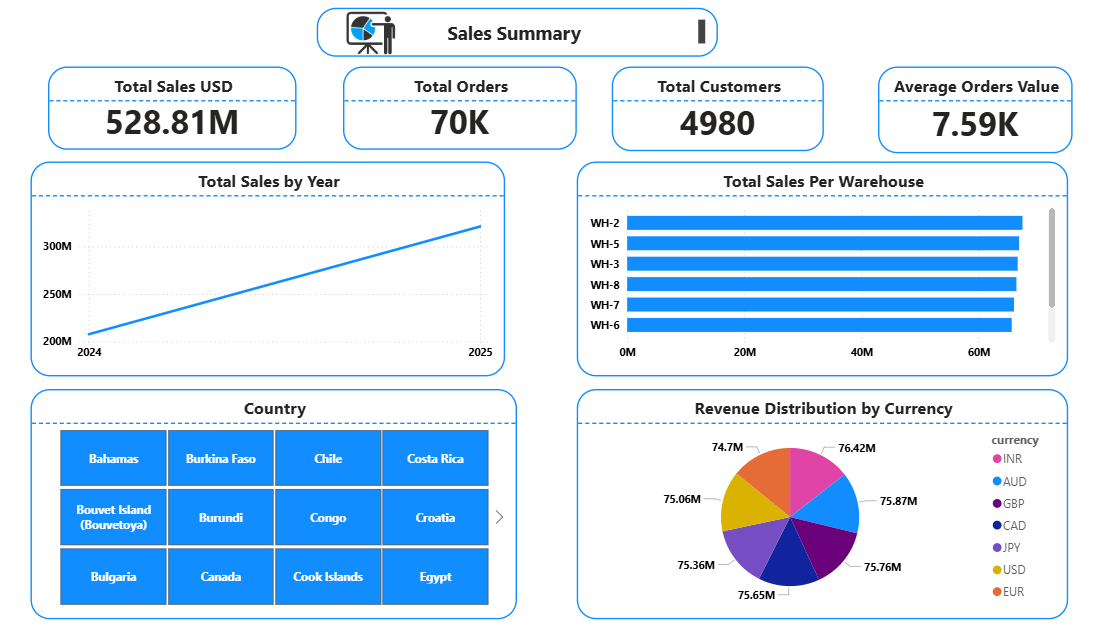

This screenshot's page, from the dashboard's own definition file:
{"tool":"powerbi","page":{"name":"Sales Summary","canvas":[1280,720],"ordinal":0},"visuals":[{"type":"card","title":"Total Sales USD","fields":{"Values":["ecom_maang categories.Total Sales USD"]},"box":[63.5,76.5,284.2,95.2],"z":0},{"type":"card","title":"Total Orders","fields":{"Values":["ecom_maang categories.Total Orders"]},"box":[399.6,76.5,266.9,95.2],"z":1000},{"type":"card","title":"Total Customers","fields":{"Values":["ecom_maang categories.Total Customers"]},"box":[707,76.5,242.4,96.7],"z":2000},{"type":"card","title":"Average Orders Value","fields":{"Values":["ecom_maang categories.Average Order Value"]},"box":[1011.4,76.5,222.2,99.6],"z":3000},{"type":"lineChart","title":"Total Sales by Year","fields":{"Category":["ecom_maang orders.order_datetime.Variation.Date Hierarchy.Year","ecom_maang orders.order_datetime.Variation.Date Hierarchy.Month","ecom_maang orders.order_datetime.Variation.Date Hierarchy.Day"],"Y":["ecom_maang categories.Total Sales USD"]},"box":[43.4,185.5,542.2,245.8],"z":4000},{"type":"barChart","title":"Total Sales Per Warehouse","fields":{"Category":["ecom_maang warehouses.name"],"Y":["ecom_maang categories.Total Sales USD"]},"box":[667.5,185.5,561.4,245.8],"z":5000},{"type":"pieChart","title":"Revenue Distribution by Currency","fields":{"Category":["ecom_maang orders.currency"],"Y":["ecom_maang categories.Total Sales USD"]},"box":[667.1,445.7,561.4,262.9],"z":6000},{"type":"textbox","box":[369.3,10.1,458.8,56.3],"z":7000},{"type":"image","box":[385.2,5.8,92.3,66.4],"z":8000},{"type":"slicer","title":"Country","fields":{"Values":["ecom_maang suppliers.country"]},"box":[42.9,445.7,555.7,262.9],"z":9000}]}

Visuals, with their boxes in screenshot pixels (x1, y1, x2, y2), scaled from the page's 1280x720 canvas onto the 1111x626 screenshot:
"Total Sales USD" card: <box>55,67,302,149</box>
"Total Orders" card: <box>347,67,579,149</box>
"Total Customers" card: <box>614,67,824,151</box>
"Average Orders Value" card: <box>878,67,1071,153</box>
"Total Sales by Year" lineChart: <box>38,161,508,375</box>
"Total Sales Per Warehouse" barChart: <box>579,161,1067,375</box>
"Revenue Distribution by Currency" pieChart: <box>579,388,1066,616</box>
textbox: <box>321,9,719,58</box>
image: <box>334,5,414,63</box>
"Country" slicer: <box>37,388,520,616</box>
